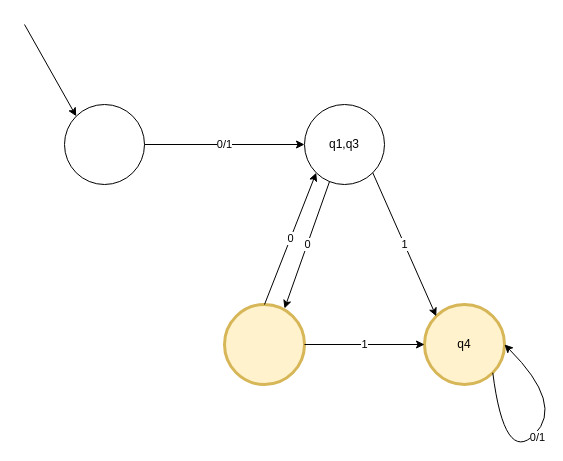
The diagram is 563 pixels wide and 461 high, and some of its shapes have lost their labels. Each missing label, with the box of its shape:
q0: (64, 104, 144, 184)
q2: (222, 302, 306, 386)
